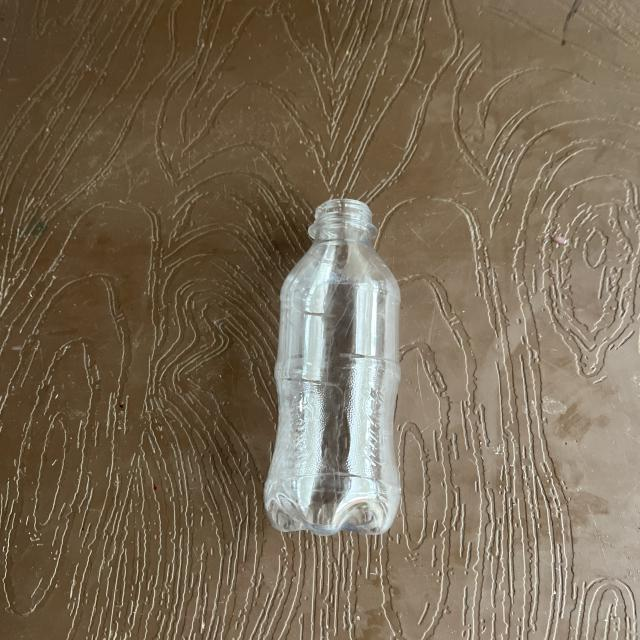PET_ClearBottle: (267, 198, 514, 540)
